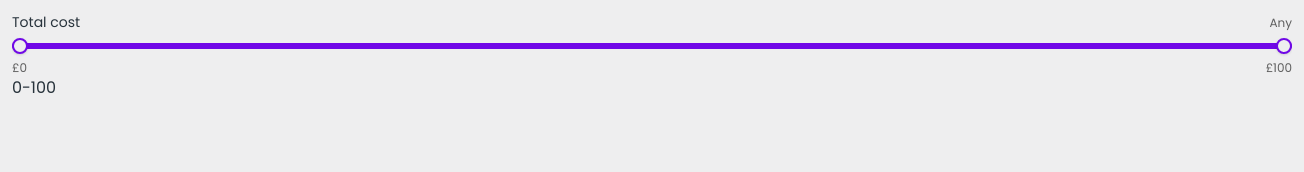
it: RangeSlider › has two labelled handles that cannot cross, and shows the chosen range
The width and height of the screenshot is (1304, 172).
Check: the element "Total cost" shows "Any", box [1270, 14, 1292, 31]
Set the slider named "Total cost maximum" to "40": (526,46) [12, 36, 1292, 56]
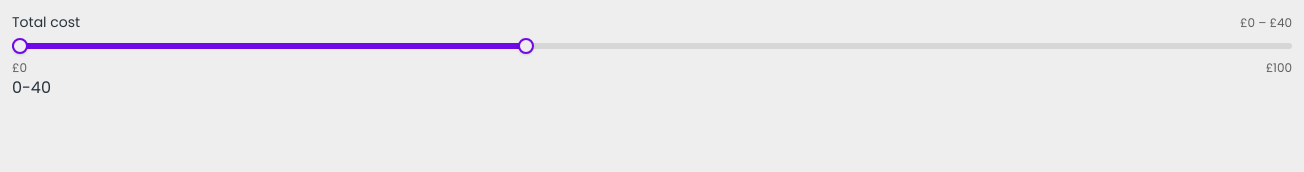
Set the slider named "Total cost minimum" to "70": (905,46) [12, 36, 1292, 56]
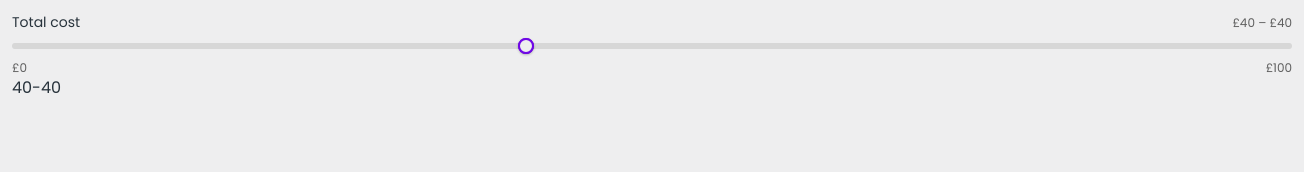
Check: the text "40-40" is shown, box [12, 76, 61, 99]
Set the slider named "Total cost minimum" to "10": (146,46) [12, 36, 1292, 56]
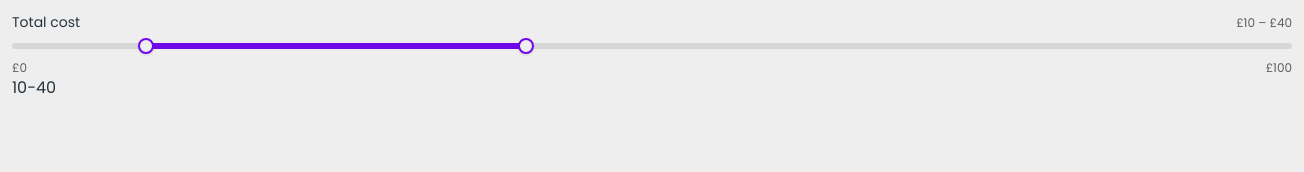
Check: the text "£10 – £40" is shown, box [1236, 15, 1292, 31]
